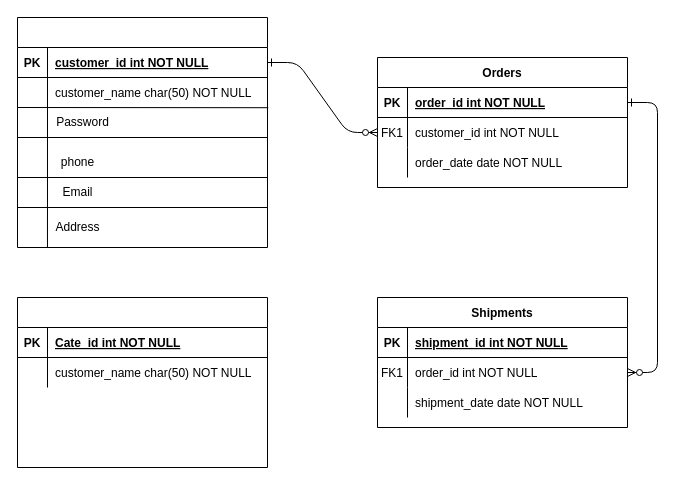
Some shapes in this 684 by 485 pixel diagram are drawn without their labels. The box of each missing label's shape, as (x1, y1, x2, y2) in pixels:
Category: (16, 296, 268, 468)
Customers: (16, 16, 268, 248)
